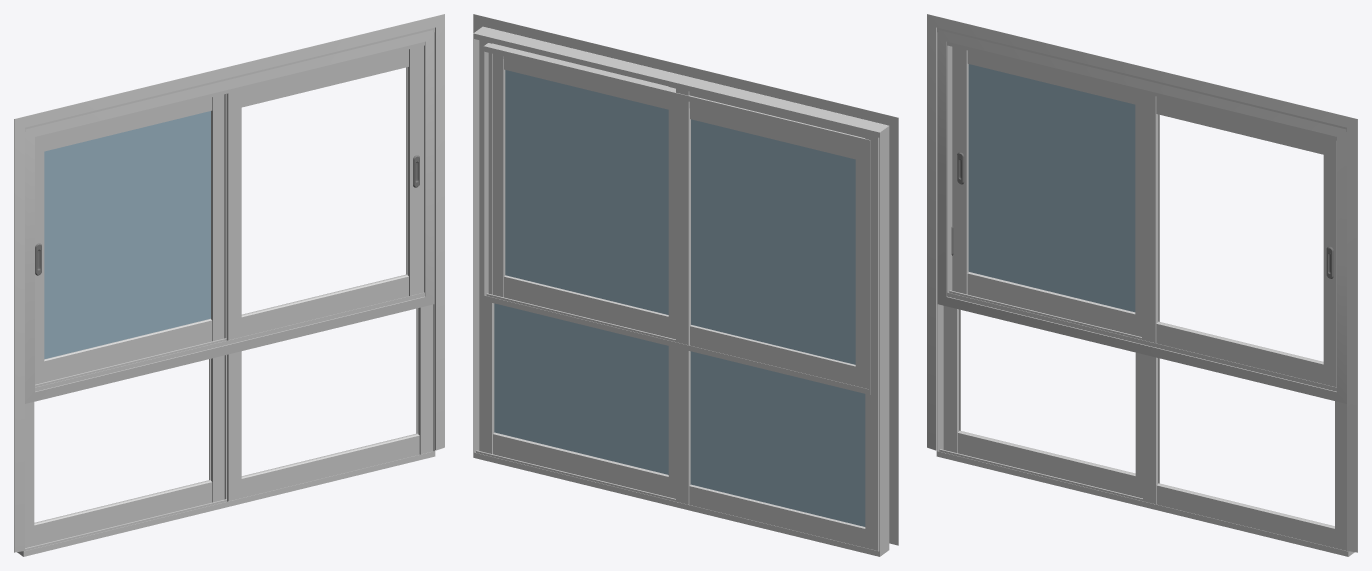
File: windows.glb
3 renders of one model, left to right at view 1: azimuth 30°, elevation 25°; view 2: azimuth 150°, elevation 25°; view 3: azimuth 330°, elevation 25°, orthographic.
Parts seen in each view (by area): view 1: Window_frame, DoorWindow_frame, Window_glass; view 2: DoorWindow_glass, DoorWindow_frame, Window_frame; view 3: Window_frame, DoorWindow_frame, Window_glass.
Part boxes in pixels (x1,y1,x2,y2): Window_frame: (25,30,434,403); DoorWindow_frame: (14,14,444,556); Window_glass: (44,111,210,359); DoorWindow_glass: (494,70,865,526); DoorWindow_frame: (473,14,898,556); Window_frame: (483,43,870,394); Window_frame: (937,30,1346,403); DoorWindow_frame: (927,14,1357,556); Window_glass: (968,64,1135,312).
Bounding box in the file's own units: 2.1 × 2.05 × 0.0888.
